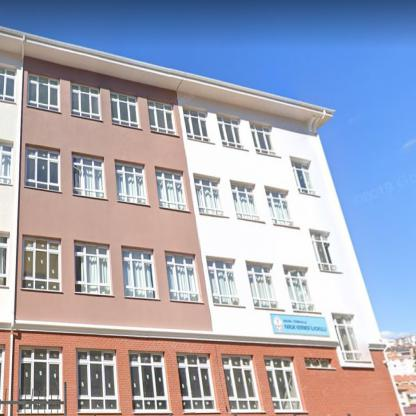window: (19, 347, 61, 412), (77, 351, 117, 411), (129, 353, 168, 411), (177, 355, 216, 410), (22, 237, 60, 291), (221, 356, 259, 410), (265, 359, 302, 411), (75, 243, 111, 295), (165, 254, 200, 302), (121, 250, 156, 298), (206, 258, 240, 305), (25, 148, 60, 190), (283, 268, 316, 312), (246, 266, 279, 308), (156, 169, 187, 212), (73, 156, 104, 198), (115, 164, 148, 203), (333, 316, 362, 360), (194, 177, 224, 216), (230, 183, 260, 220), (28, 75, 59, 110), (266, 190, 295, 226), (311, 234, 338, 271), (110, 92, 139, 126), (72, 84, 100, 119), (147, 99, 175, 134), (182, 108, 212, 140), (217, 114, 243, 149), (291, 162, 319, 194), (249, 123, 276, 155), (0, 67, 15, 103), (0, 144, 13, 184), (0, 235, 8, 285), (305, 360, 330, 367)
